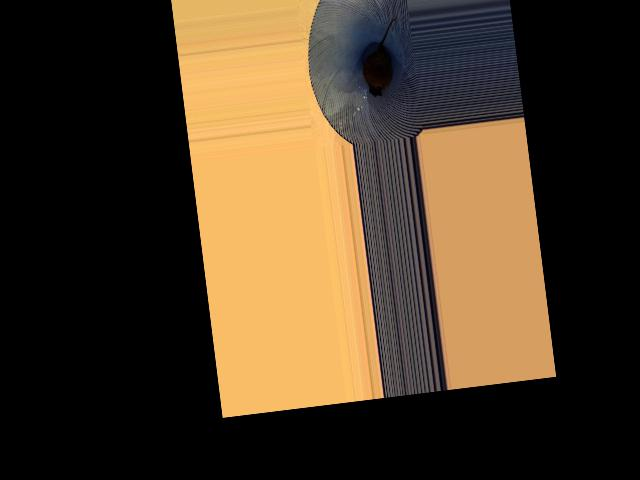beet: (357, 18, 405, 98)
